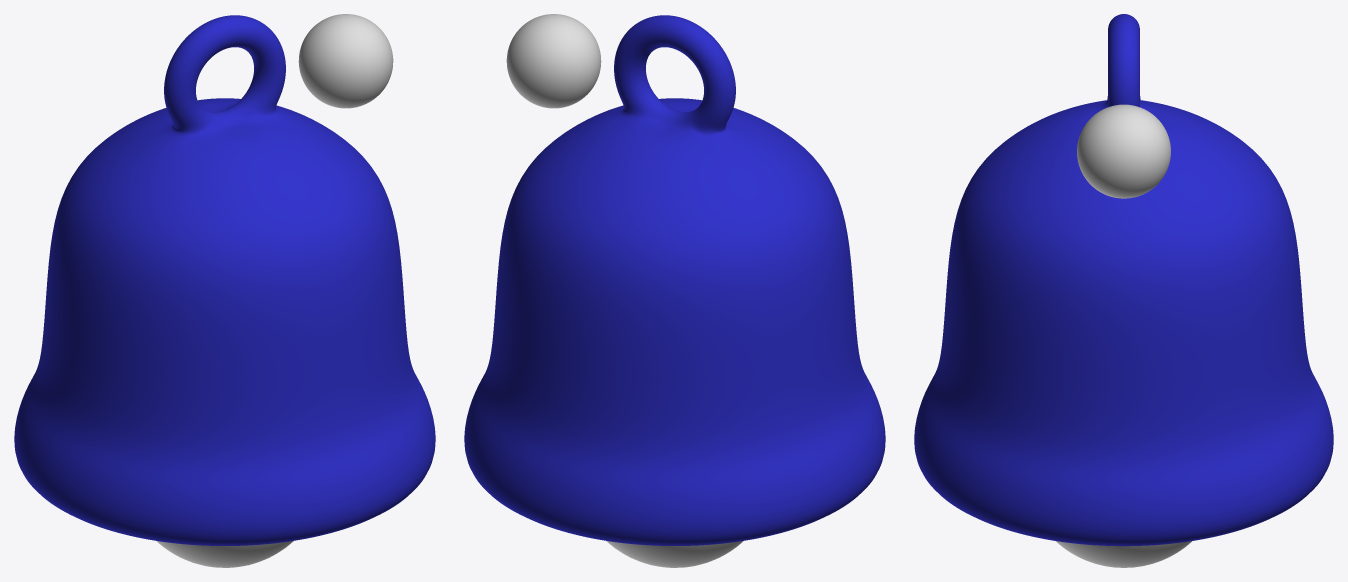
Rendered from bell.fbx.
3 renders of one model, left to right at view 1: azimuth 30°, elevation 25°; view 2: azimuth 150°, elevation 25°; view 3: azimuth 270°, elevation 25°, orthographic.
Parts seen in each view (by area): view 1: Bell Outer; view 2: Bell Outer; view 3: Bell Outer.
Part boxes in pixels (<box>): Bell Outer: <box>14,14,435,567</box>; Bell Outer: <box>464,14,885,567</box>; Bell Outer: <box>914,14,1333,567</box>.
Size of the model in its own units: 131 by 185 by 131.
